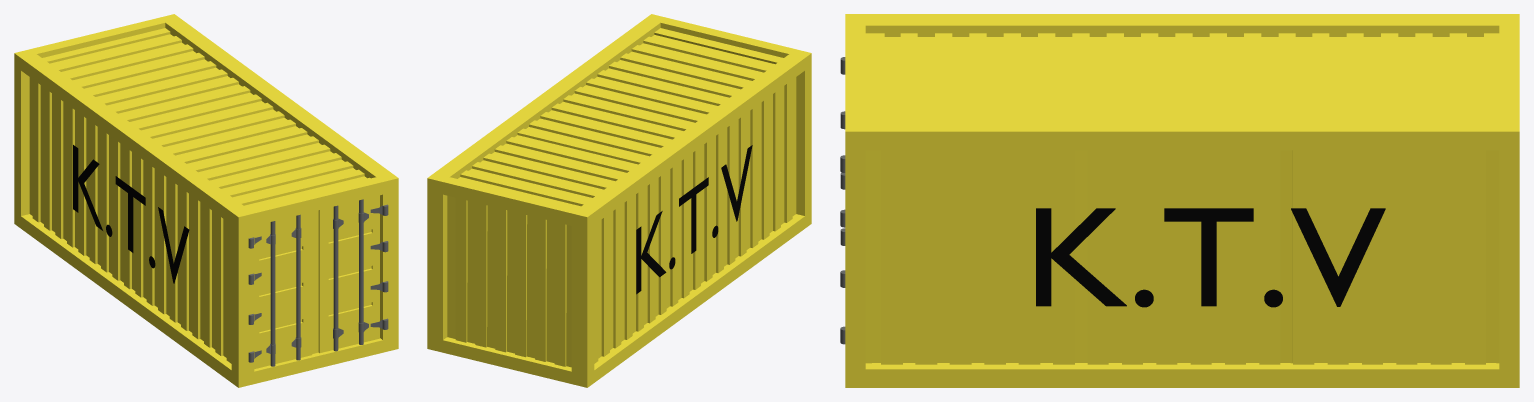
The model's file is container2.fbx.
The picture shows the model from 3 angles, left to right: view 1: azimuth 30°, elevation 25°; view 2: azimuth 150°, elevation 25°; view 3: azimuth 270°, elevation 25°; orthographic projection. The views are drawn at different scales.
Visible parts, largest first — view 1: Cube, Cylinder.001, Cylinder, K.T.V; view 2: Cube, K.T.V; view 3: Cube, K.T.V.001.
Boxes of the visible parts, box(x1,y1,x2,y2) form: Cube: box(14, 14, 398, 387); Cylinder.001: box(315, 195, 388, 353); Cylinder: box(248, 211, 314, 368); K.T.V: box(73, 145, 189, 283); Cube: box(427, 14, 811, 387); K.T.V: box(636, 145, 752, 294); Cube: box(845, 14, 1519, 387); K.T.V.001: box(1036, 208, 1385, 307).
Size of the model in its own units: 330 by 336 by 805.
